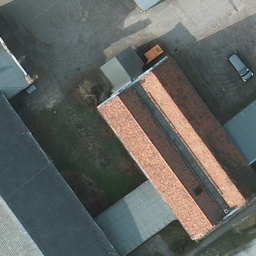car: (228, 53, 254, 82)
